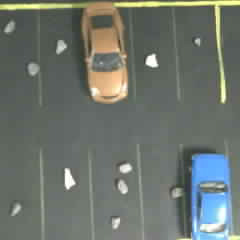Car: (79, 1, 131, 106), (187, 143, 237, 240)
obstacle: (109, 157, 134, 200), (56, 157, 78, 197), (100, 207, 131, 233), (144, 42, 165, 75), (6, 194, 28, 222), (51, 29, 69, 60), (23, 54, 40, 83), (6, 14, 20, 42), (188, 29, 205, 49), (170, 182, 184, 206)
